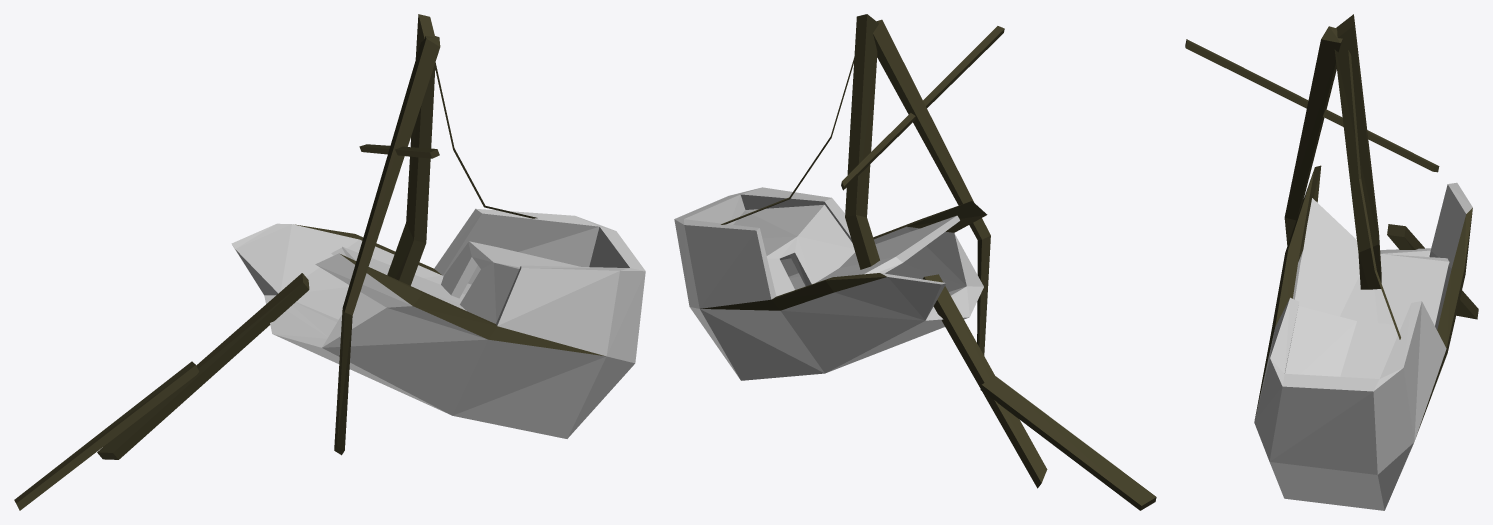
Rendered from OW_SHIPWRECK_TAIL.OBJ.
3 renders of one model, left to right at view 1: azimuth 30°, elevation 25°; view 2: azimuth 150°, elevation 25°; view 3: azimuth 270°, elevation 25°, orthographic. The views are drawn at different scales.
Parts seen in each view (by area): view 1: OW_SHIPWRECK_TAIL; view 2: OW_SHIPWRECK_TAIL; view 3: OW_SHIPWRECK_TAIL.
Boxes of the visible parts, bbox=[...] form: OW_SHIPWRECK_TAIL: bbox=[14, 14, 645, 510]; OW_SHIPWRECK_TAIL: bbox=[674, 14, 1156, 510]; OW_SHIPWRECK_TAIL: bbox=[1185, 14, 1478, 510].
Bounding box in the file's own units: 32.07 × 23.59 × 14.21.
